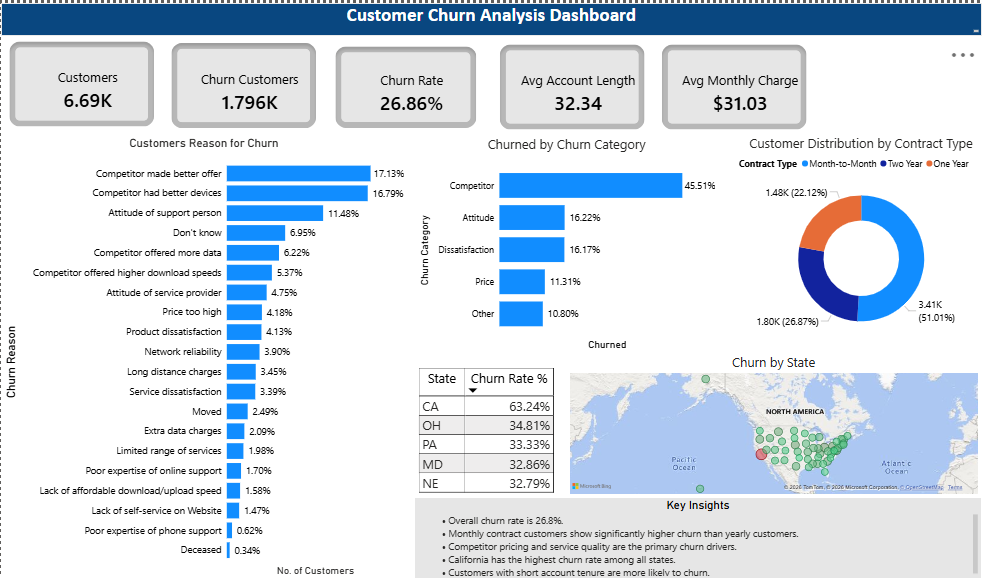

The dashboard page shown, as its layout file describes it:
{"tool":"powerbi","page":{"name":"Overview","canvas":[1640,960],"ordinal":0},"visuals":[{"type":"cardVisual","title":"Customers","fields":{"Data":["calculation.Number of Customers"]},"box":[0,49.7,269.9,170.6],"z":0},{"type":"cardVisual","fields":{"Data":["calculation.No. of Churn Customers"]},"box":[269.9,51.8,269.9,170.6],"z":1000},{"type":"cardVisual","fields":{"Data":["calculation.Churn Rate %"]},"box":[539.7,54,269.9,170.6],"z":2000},{"type":"clusteredBarChart","title":"Customers Reason for Churn","fields":{"Y":["calculation.No. of Customers"],"Category":["Databel - Data.Churn Reason"]},"box":[0,222.8,676.5,737],"z":3000},{"type":"clusteredBarChart","title":"Churned by Churn Category","fields":{"Category":["Databel - Data.Churn Category"],"Y":["Divide(Sum(Databel - Data.churned), ScopedEval(Sum(Databel - Data.churned), []))"]},"box":[690.9,220.2,505.2,362.7],"z":4000},{"type":"map","title":"Churn by State","fields":{"Category":["Databel - Data.State"],"Size":["calculation.Churn Rate %"]},"box":[943.3,583,690.3,242],"z":5000},{"type":"donutChart","title":"Customer Distribution by Contract Type","fields":{"Y":["calculation.No. of Customers"],"Category":["Databel - Data.Contract Type"]},"box":[1224.1,218.1,416.7,356.2],"z":6000},{"type":"textbox","title":"Customer Churn Analysis Dashboard","box":[0,0,1634.3,54],"z":7000},{"type":"cardVisual","fields":{"Data":["Avg(Databel - Data.Account Length (in months))"]},"box":[818.3,54,269.9,170.6],"z":8000},{"type":"cardVisual","fields":{"Data":["Avg(Databel - Data.Monthly Charge)"]},"box":[1088.1,54,269.9,170.6],"z":9000},{"type":"tableEx","fields":{"Values":["Databel - Data.State","calculation.Churn Rate %"]},"box":[690.3,602.3,253,222.8],"z":10000},{"type":"textbox","title":"Key Insights","box":[690.3,825,943.3,134.8],"z":11000}]}

Visuals, with their boxes in screenshot pixels (x1, y1, x2, y2), scaled from the page's 1640x960 canvas onto the 983x578 screenshot:
"Customers" cardVisual: (0, 30, 162, 133)
cardVisual - calculation.No. of Churn Customers: (162, 31, 324, 134)
cardVisual - calculation.Churn Rate %: (323, 33, 485, 135)
"Customers Reason for Churn" clusteredBarChart: (0, 134, 405, 577)
"Churned by Churn Category" clusteredBarChart: (414, 133, 717, 351)
"Churn by State" map: (565, 351, 979, 497)
"Customer Distribution by Contract Type" donutChart: (734, 131, 982, 346)
"Customer Churn Analysis Dashboard" textbox: (0, 0, 980, 33)
cardVisual - Avg(Databel - Data.Account Length (in months)): (490, 33, 652, 135)
cardVisual - Avg(Databel - Data.Monthly Charge): (652, 33, 814, 135)
tableEx - Databel - Data.State x calculation.Churn Rate %: (414, 363, 565, 497)
"Key Insights" textbox: (414, 497, 979, 577)
